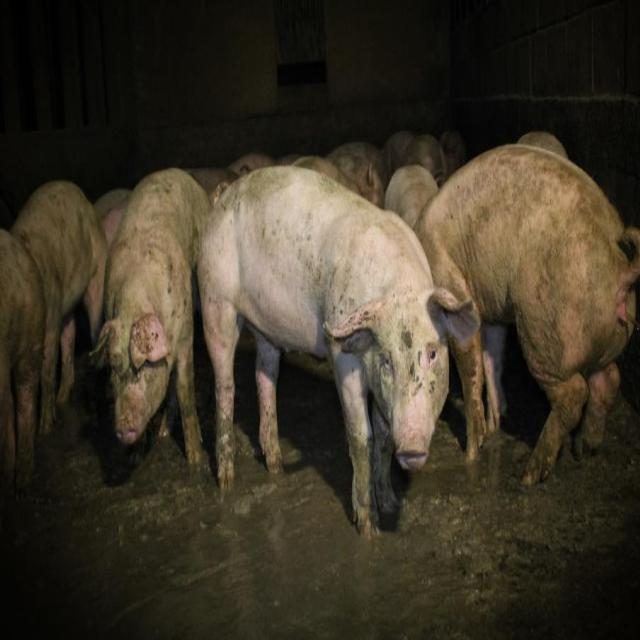pig: (199, 165, 479, 538), (415, 145, 640, 484), (92, 171, 211, 464), (11, 180, 108, 433), (0, 229, 45, 493)
